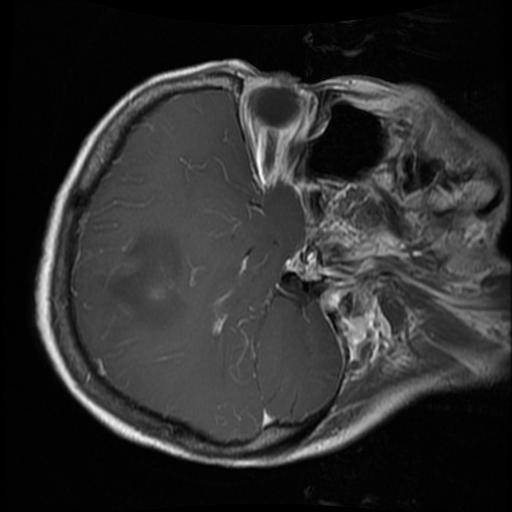glioma: (94, 231, 185, 324)
